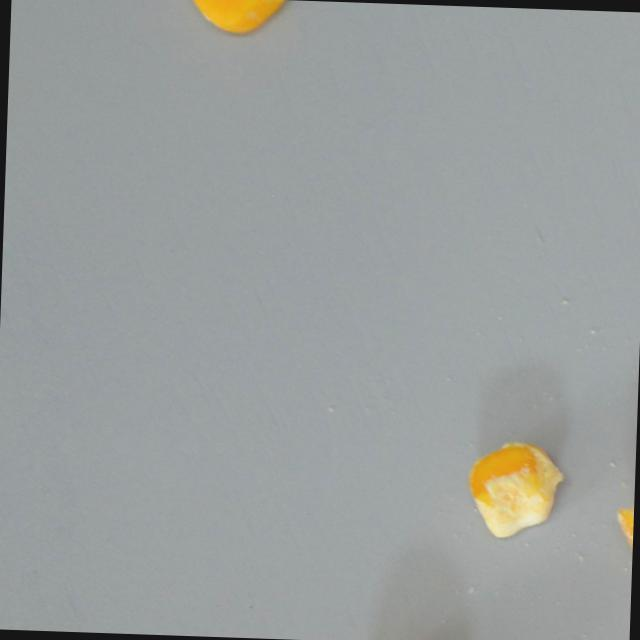no_canjicado: (180, 0, 288, 33)
pelicula: (468, 438, 564, 538), (613, 441, 636, 563)
